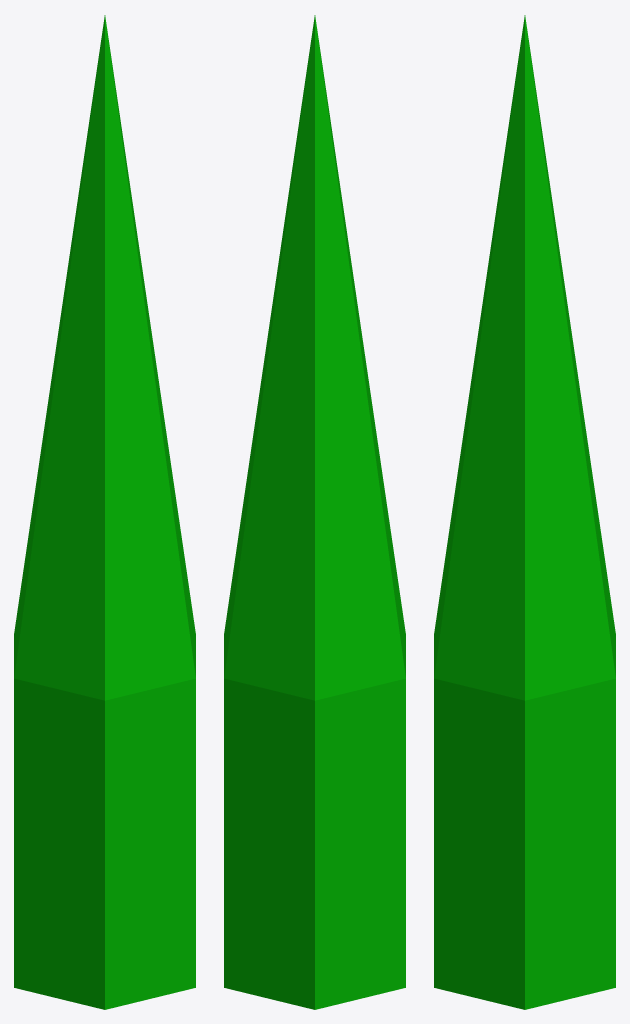
The model's file is tree_02_placeholder.glb.
The picture shows the model from 3 angles, left to right: view 1: azimuth 30°, elevation 25°; view 2: azimuth 150°, elevation 25°; view 3: azimuth 270°, elevation 25°; orthographic projection.
Parts seen in each view (by area): view 1: tree_02_placeholder; view 2: tree_02_placeholder; view 3: tree_02_placeholder.
Boxes of the visible parts, x1,y1,x2,y2 form: tree_02_placeholder: (14, 15, 195, 1009); tree_02_placeholder: (224, 15, 405, 1009); tree_02_placeholder: (434, 15, 615, 1009).
Size of the model in its own units: 0.8 by 4 by 0.6928.
